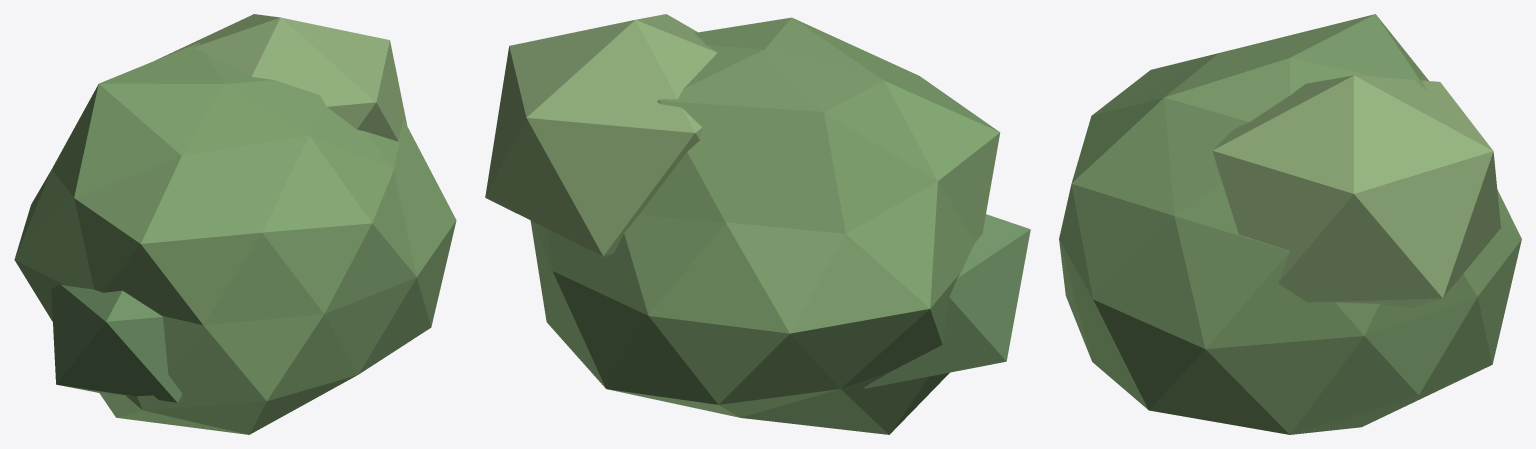
File: bush-round.glb
3 views of the same model, side by side, from view 1: azimuth 30°, elevation 25°; view 2: azimuth 150°, elevation 25°; view 3: azimuth 270°, elevation 25° (orthographic). The views are drawn at different scales.
Parts seen in each view (by area): view 1: bush-round; view 2: bush-round; view 3: bush-round.
Boxes of the visible parts, x1,y1,x2,y2 form: bush-round: [14, 14, 456, 434]; bush-round: [485, 14, 1030, 434]; bush-round: [1059, 14, 1521, 434].
Size of the model in its own units: 1.28 by 1.06 by 1.16.
